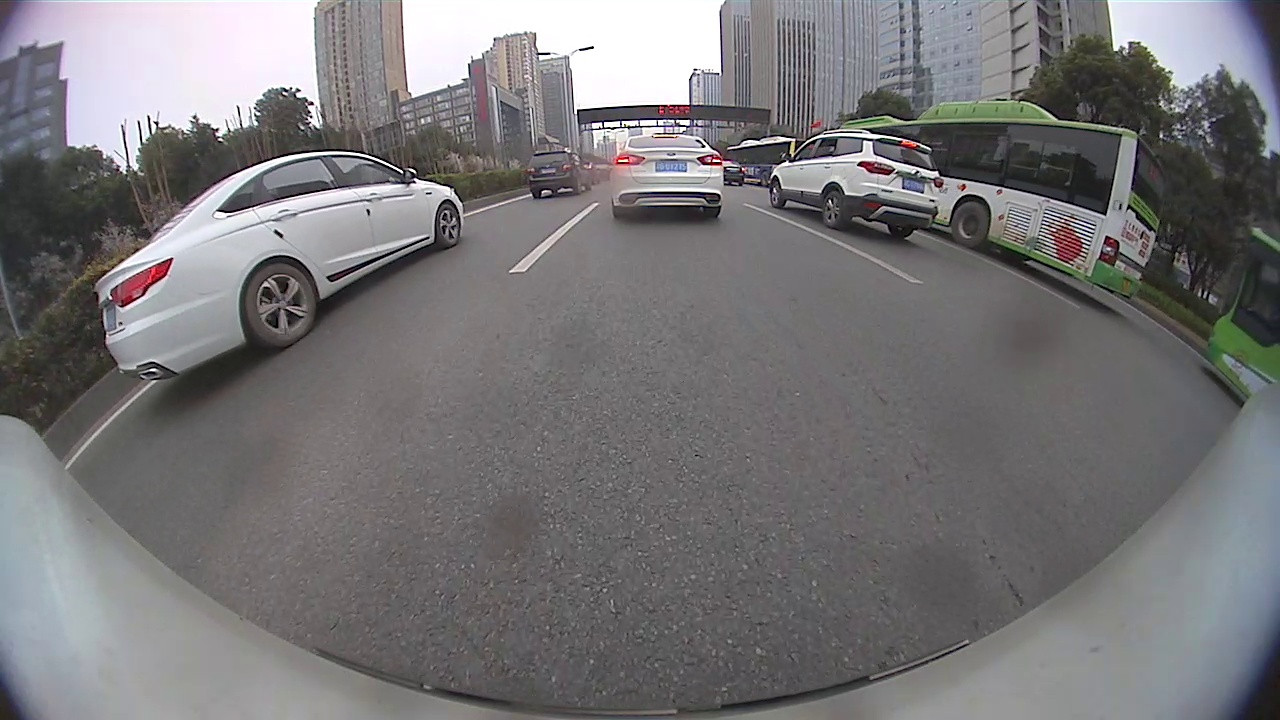bus: (841, 100, 1170, 298), (1201, 224, 1279, 403), (727, 136, 807, 188)
car: (94, 150, 463, 380), (767, 129, 947, 239), (611, 133, 724, 218), (527, 151, 592, 199), (723, 161, 744, 186)
front: (437, 199, 464, 251), (768, 176, 786, 210)
rear: (247, 265, 317, 347), (949, 199, 992, 249), (819, 188, 849, 233)
